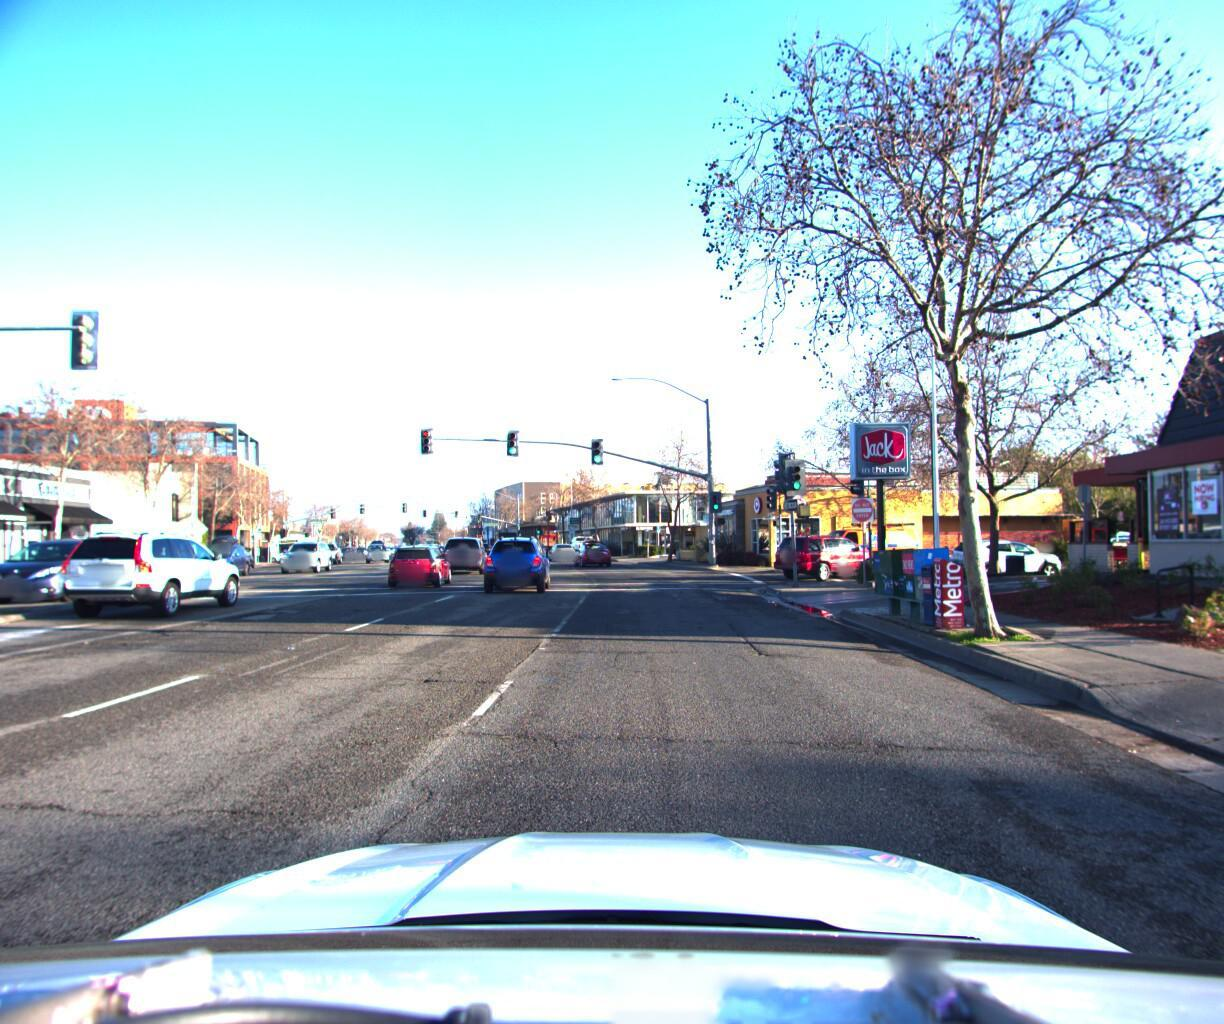car: (43, 524, 260, 628), (791, 519, 926, 571), (764, 530, 888, 575), (938, 532, 1064, 573), (480, 534, 553, 593), (381, 535, 455, 589), (189, 535, 262, 579), (437, 529, 492, 575), (276, 533, 338, 570), (571, 530, 613, 564), (542, 534, 576, 556), (358, 535, 388, 558)
